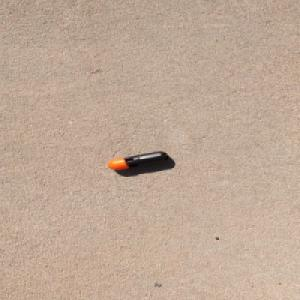PlasticPart: (105, 150, 170, 170)
